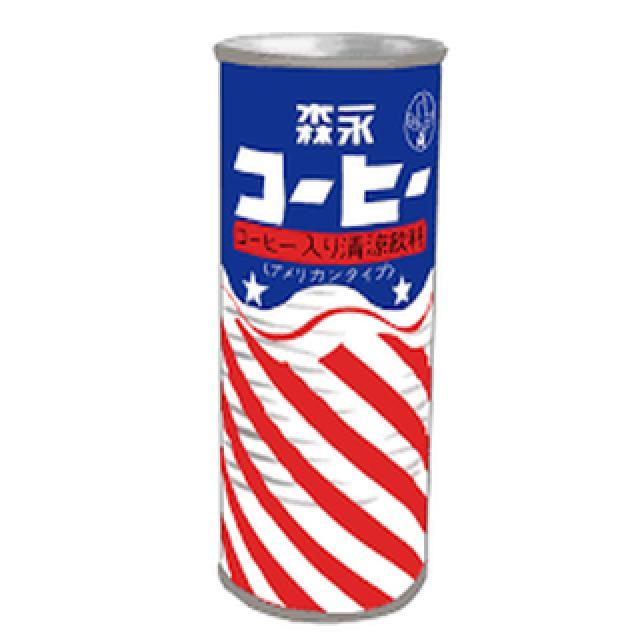can: (195, 4, 444, 626)
